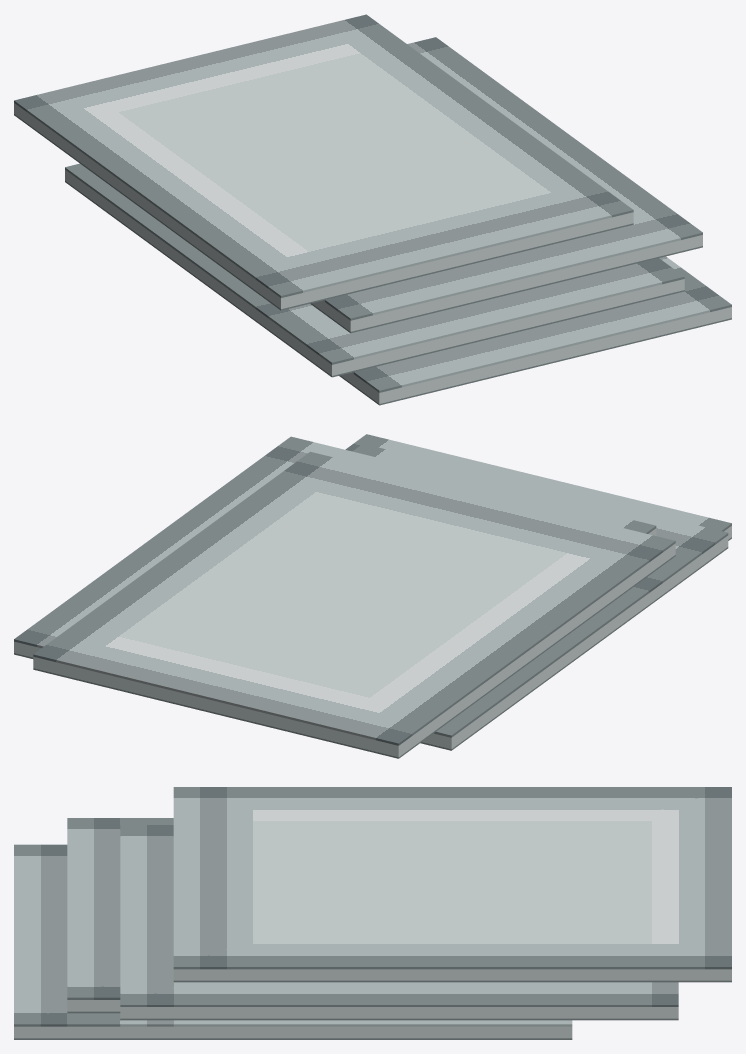
File: CMU3DRMCSheetPlastic.glb
3 renders of one model, top to bottom at view 1: azimuth 30°, elevation 25°; view 2: azimuth 150°, elevation 25°; view 3: azimuth 270°, elevation 25°, orthographic. The views are drawn at different scales.
Parts seen in each view (by area): view 1: sheet 4 original upper surface, sheet 3 original upper surface, sheet 2 original upper surface, sheet 1 original upper surface, sheet 2 solid material, sheet 4 solid material, sheet 1 solid material, sheet 3 solid material, sheet 2 dark lower edge, sheet 4 dark lower edge, sheet 3 dark lower edge, sheet 1 dark lower edge; view 2: sheet 4 original upper surface, sheet 3 original upper surface, sheet 2 original upper surface, sheet 4 solid material, sheet 1 original upper surface, sheet 2 solid material, sheet 4 dark lower edge, sheet 2 dark lower edge; view 3: sheet 4 original upper surface, sheet 3 original upper surface, sheet 1 original upper surface, sheet 2 original upper surface, sheet 1 solid material, sheet 3 solid material, sheet 4 solid material, sheet 3 dark lower edge, sheet 4 dark lower edge, sheet 1 dark lower edge, sheet 2 solid material.
Boxes of the visible parts, x1=… form: sheet 4 original upper surface: x1=14, y1=14, x2=633, y2=297; sheet 3 original upper surface: x1=323, y1=37, x2=702, y2=320; sheet 2 original upper surface: x1=65, y1=163, x2=684, y2=364; sheet 1 original upper surface: x1=352, y1=256, x2=731, y2=392; sheet 2 solid material: x1=65, y1=170, x2=684, y2=375; sheet 4 solid material: x1=14, y1=103, x2=633, y2=309; sheet 1 solid material: x1=340, y1=307, x2=731, y2=403; sheet 3 solid material: x1=312, y1=235, x2=702, y2=331; sheet 2 dark lower edge: x1=65, y1=181, x2=684, y2=377; sheet 4 dark lower edge: x1=14, y1=114, x2=633, y2=310; sheet 3 dark lower edge: x1=310, y1=246, x2=702, y2=333; sheet 1 dark lower edge: x1=339, y1=318, x2=731, y2=405; sheet 4 original upper surface: x1=33, y1=451, x2=675, y2=745; sheet 3 original upper surface: x1=14, y1=436, x2=656, y2=648; sheet 2 original upper surface: x1=352, y1=443, x2=728, y2=737; sheet 4 solid material: x1=33, y1=543, x2=675, y2=757; sheet 1 original upper surface: x1=345, y1=434, x2=731, y2=531; sheet 2 solid material: x1=422, y1=535, x2=728, y2=749; sheet 4 dark lower edge: x1=33, y1=555, x2=675, y2=758; sheet 2 dark lower edge: x1=420, y1=547, x2=728, y2=750; sheet 4 original upper surface: x1=173, y1=787, x2=731, y2=969; sheet 3 original upper surface: x1=120, y1=825, x2=678, y2=1006; sheet 1 original upper surface: x1=14, y1=844, x2=572, y2=1026; sheet 2 original upper surface: x1=67, y1=818, x2=173, y2=999; sheet 1 solid material: x1=14, y1=1026, x2=572, y2=1038; sheet 3 solid material: x1=120, y1=1007, x2=678, y2=1018; sheet 4 solid material: x1=173, y1=969, x2=731, y2=980; sheet 3 dark lower edge: x1=120, y1=1018, x2=678, y2=1020; sheet 4 dark lower edge: x1=173, y1=980, x2=731, y2=982; sheet 1 dark lower edge: x1=14, y1=1038, x2=572, y2=1039; sheet 2 solid material: x1=67, y1=1000, x2=120, y2=1011.
Size of what is drawn, in the model's own units: 0.5625 by 0.08 by 0.8438.
Materials: 6 (4 with a texture image).
